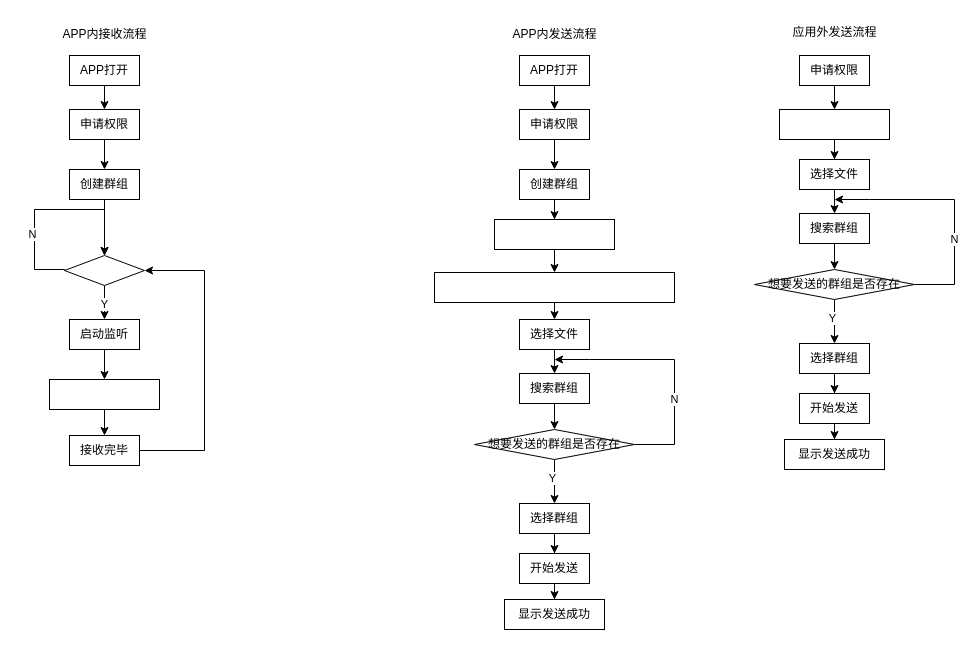
This 980x647 diagram has some shape labels left out. The centre of each missing label's shape, as x and y in pixels:
"保存并接收文件" goes at (x=104, y=394).
"关闭群组和接收端程序，初始化发送程序" goes at (x=554, y=287).
"初始化发送程序" goes at (x=834, y=124).
"是否有连接" goes at (x=104, y=270).
"点击APP发送按钮" goes at (x=554, y=234).
